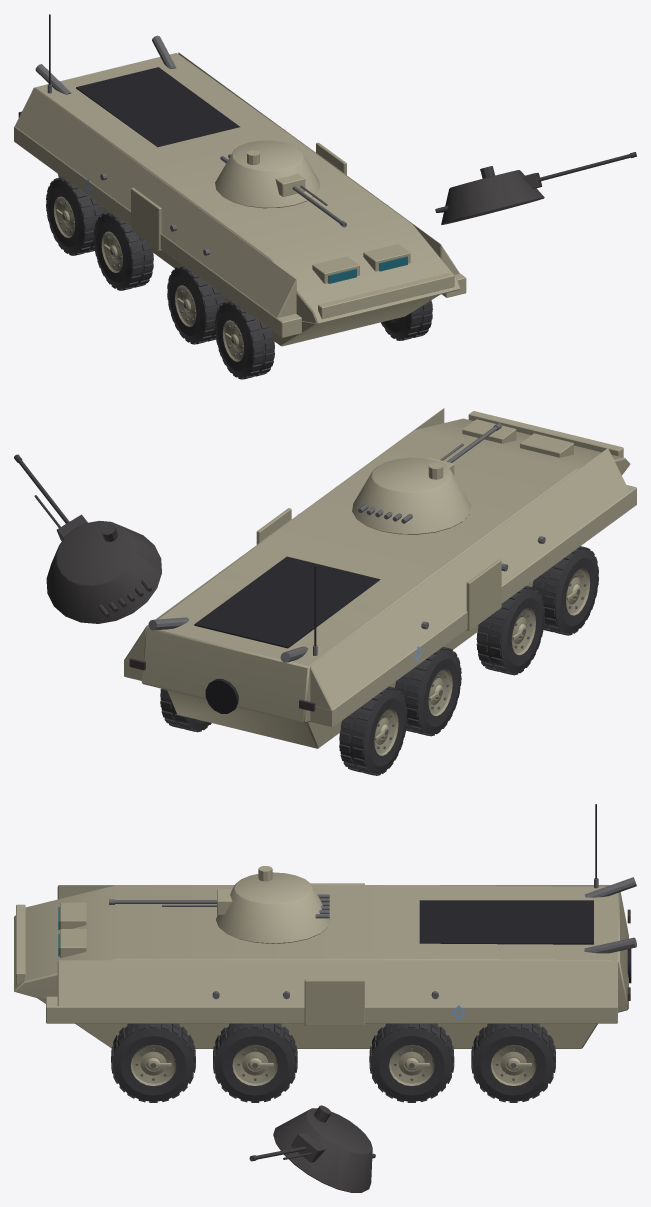
The model's file is apc__btr_80a_btr_70.glb.
3 renders of one model, top to bottom at view 1: azimuth 30°, elevation 25°; view 2: azimuth 150°, elevation 25°; view 3: azimuth 270°, elevation 25°, orthographic. The views are drawn at different scales.
Visible parts, largest first — view 1: Hull_Mesh, Turret_Mesh, Wreck, Wheel_L3_Mesh, Wheel_L1_Mesh, Wheel_L2_Mesh, Wheel_L0_Mesh, Wheel_R3_Mesh, Gun_Mesh; view 2: Hull_Mesh, Wreck, Turret_Mesh, Wheel_L0_Mesh, Wheel_L2_Mesh, Wheel_L3_Mesh, Wheel_L1_Mesh, Wheel_R0_Mesh, Gun_Mesh; view 3: Hull_Mesh, Turret_Mesh, Wreck, Wheel_R1_Mesh, Wheel_R2_Mesh, Wheel_R3_Mesh, Wheel_R0_Mesh, Gun_Mesh.
Part boxes in pixels (x1=…): Hull_Mesh: x1=14, y1=14, x2=466, y2=346; Turret_Mesh: x1=215, y1=140, x2=320, y2=208; Wreck: x1=65, y1=152, x2=636, y2=343; Wheel_L3_Mesh: x1=215, y1=300, x2=274, y2=379; Wheel_L1_Mesh: x1=93, y1=212, x2=153, y2=290; Wheel_L2_Mesh: x1=167, y1=265, x2=225, y2=344; Wheel_L0_Mesh: x1=46, y1=177, x2=104, y2=255; Wheel_R3_Mesh: x1=381, y1=300, x2=432, y2=340; Gun_Mesh: x1=275, y1=173, x2=346, y2=227; Hull_Mesh: x1=124, y1=408, x2=636, y2=748; Wreck: x1=14, y1=454, x2=574, y2=773; Turret_Mesh: x1=352, y1=457, x2=471, y2=534; Wheel_L0_Mesh: x1=339, y1=686, x2=407, y2=775; Wheel_L2_Mesh: x1=476, y1=585, x2=544, y2=675; Wheel_L3_Mesh: x1=532, y1=546, x2=598, y2=635; Wheel_L1_Mesh: x1=395, y1=646, x2=461, y2=736; Wheel_R0_Mesh: x1=160, y1=688, x2=211, y2=732; Gun_Mesh: x1=427, y1=423, x2=501, y2=475; Hull_Mesh: x1=14, y1=804, x2=636, y2=1048; Turret_Mesh: x1=216, y1=866, x2=330, y2=943; Wreck: x1=172, y1=1048, x2=375, y2=1192; Wheel_R1_Mesh: x1=369, y1=1023, x2=454, y2=1102; Wheel_R2_Mesh: x1=213, y1=1023, x2=297, y2=1102; Wheel_R3_Mesh: x1=111, y1=1023, x2=195, y2=1102; Wheel_R0_Mesh: x1=471, y1=1023, x2=555, y2=1102; Gun_Mesh: x1=109, y1=889, x2=232, y2=914.
Size of what is drawn, in the model's own units: 7.14 by 3.07 by 7.96.
